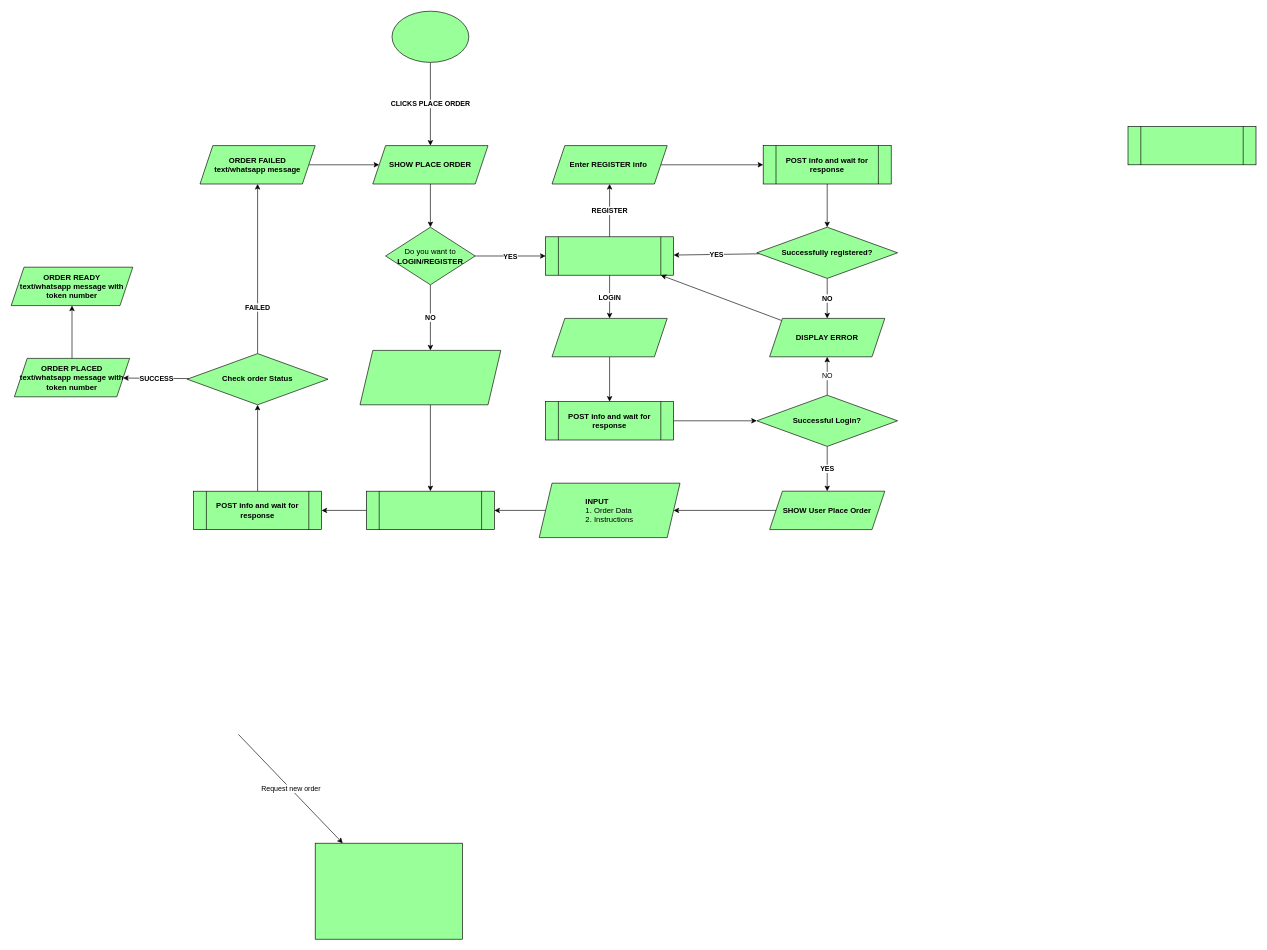
The diagram is 1267 pixels wide and 950 high, and some of its shapes have lost their labels. The shapes that lost their labels are listed below. From the top down, each one's centre as x and y in pixels, then its label:
(430,36): Customer opens webpage
(1191,145): REGISTER and post
(609,255): SHOW LOGIN Page
(609,337): Enter Credentials
(430,377): INPUT 1. Phone Number 2. Order Data 3. Instructions
(430,510): Preparing Request body with required info
(388,891): NEW ORDER API
